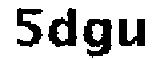5: (11, 3, 45, 51)
d: (48, 6, 80, 52)
g: (82, 14, 115, 60)
u: (116, 13, 149, 51)
